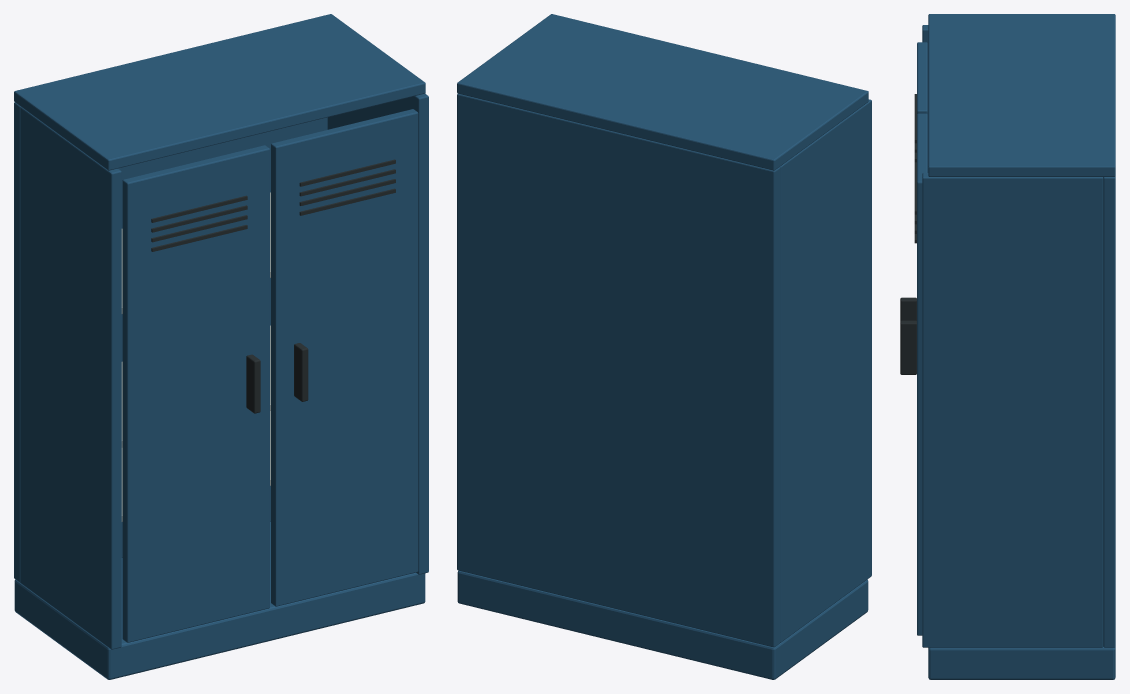
Rendered from source-edit.glb.
3 renders of one model, left to right at view 1: azimuth 30°, elevation 25°; view 2: azimuth 150°, elevation 25°; view 3: azimuth 270°, elevation 25°, orthographic.
Visible parts, largest first — view 1: Left_Door, Right_Door, CABINET_Side.001, CABINET_Top, CABINET_Base, CABINET_Side, CABINET_Back, Left_Handle, Right_Handle; view 2: CABINET_Back, CABINET_Side.001, CABINET_Top, CABINET_Base; view 3: CABINET_Side, CABINET_Top, CABINET_Base, CABINET_Back, Right_Door, Right_Handle, Left_Door, Left_Handle, CABINET_Side.001.
Part boxes in pixels (<box>): Left_Door: <box>122,145,269,642</box>; Right_Door: <box>271,109,418,606</box>; CABINET_Side.001: <box>20,107,121,649</box>; CABINET_Top: <box>14,14,425,170</box>; CABINET_Base: <box>14,521,425,679</box>; CABINET_Side: <box>327,93,428,574</box>; CABINET_Back: <box>14,102,327,582</box>; Left_Handle: <box>246,354,260,413</box>; Right_Handle: <box>294,343,308,401</box>; CABINET_Back: <box>457,93,779,647</box>; CABINET_Side.001: <box>780,99,871,642</box>; CABINET_Top: <box>457,14,868,170</box>; CABINET_Base: <box>457,570,868,679</box>; CABINET_Side: <box>922,173,1103,647</box>; CABINET_Top: <box>928,14,1115,176</box>; CABINET_Base: <box>928,647,1115,679</box>; CABINET_Back: <box>1103,176,1115,647</box>; Right_Door: <box>917,113,927,635</box>; Right_Handle: <box>900,320,916,374</box>; Left_Door: <box>917,42,927,114</box>; Left_Handle: <box>900,297,916,321</box>; CABINET_Side.001: <box>922,25,928,172</box>.
Size of the model in its own units: 1.2 by 1.88 by 0.7125.
